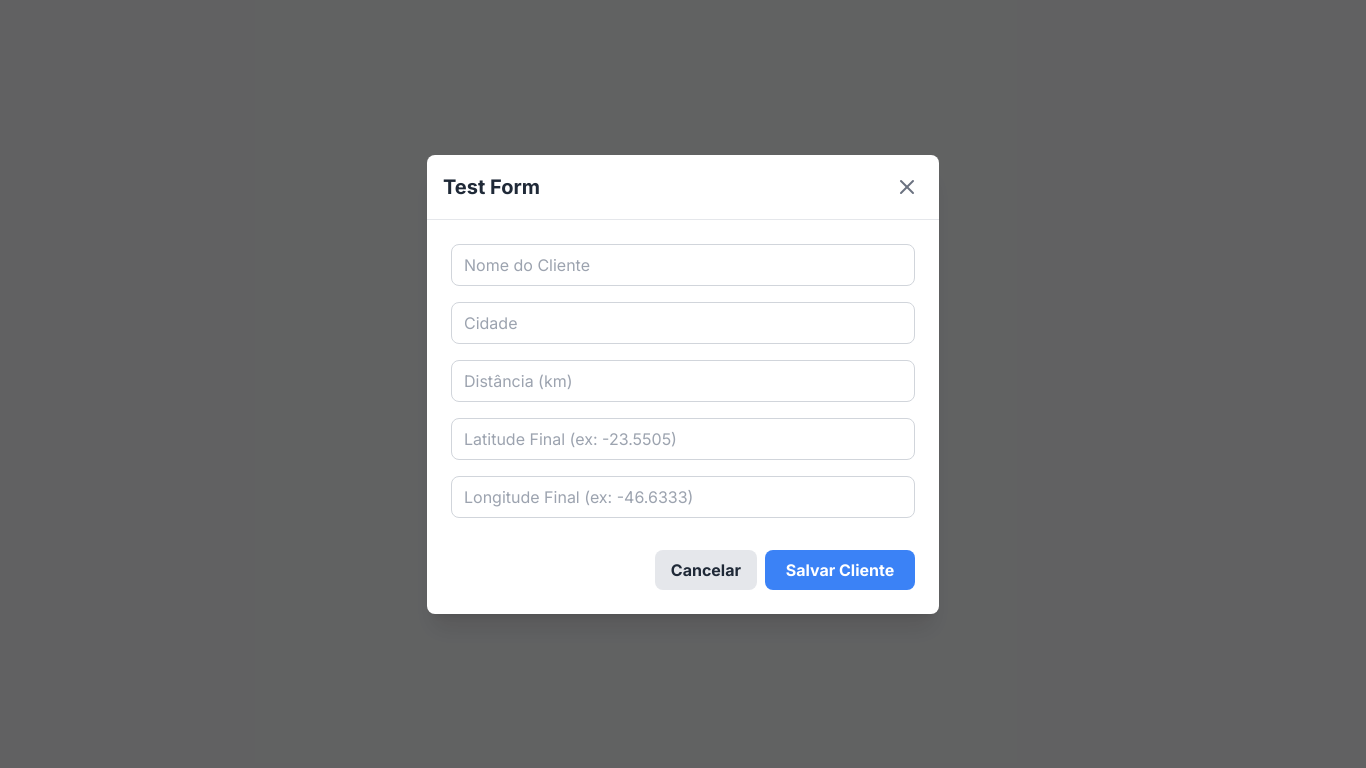
Scenario: ClientModule › ClientForm (within Modal - requires ClientListPage interaction or direct test) › shows validation errors for empty required fields on submit (testing ClientForm directly)
Click the button "Salvar Cliente" at (840, 570), box [765, 550, 915, 590]
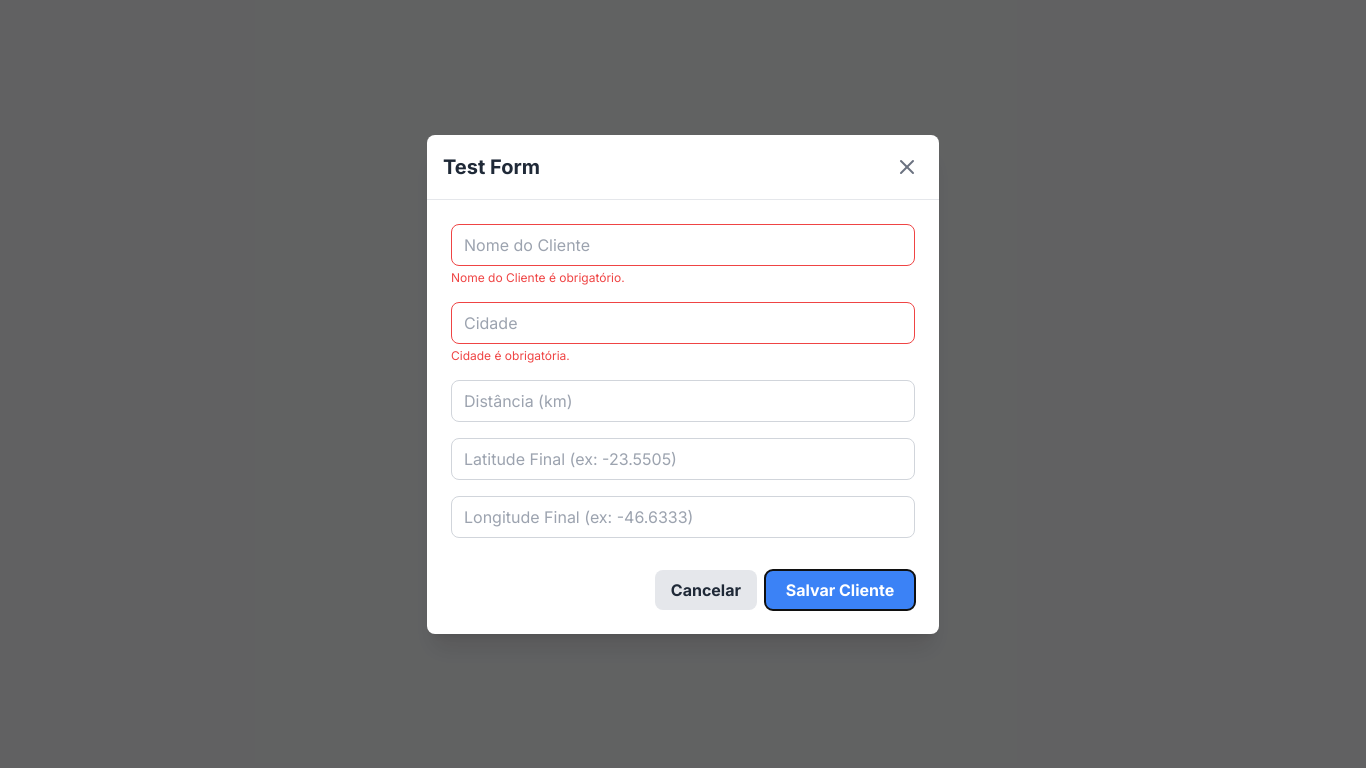
Expected: the text "Nome do Cliente é obrigatório." is shown, [451, 270, 625, 284]
Expected: the text "Cidade é obrigatória." is shown, [451, 348, 570, 362]
